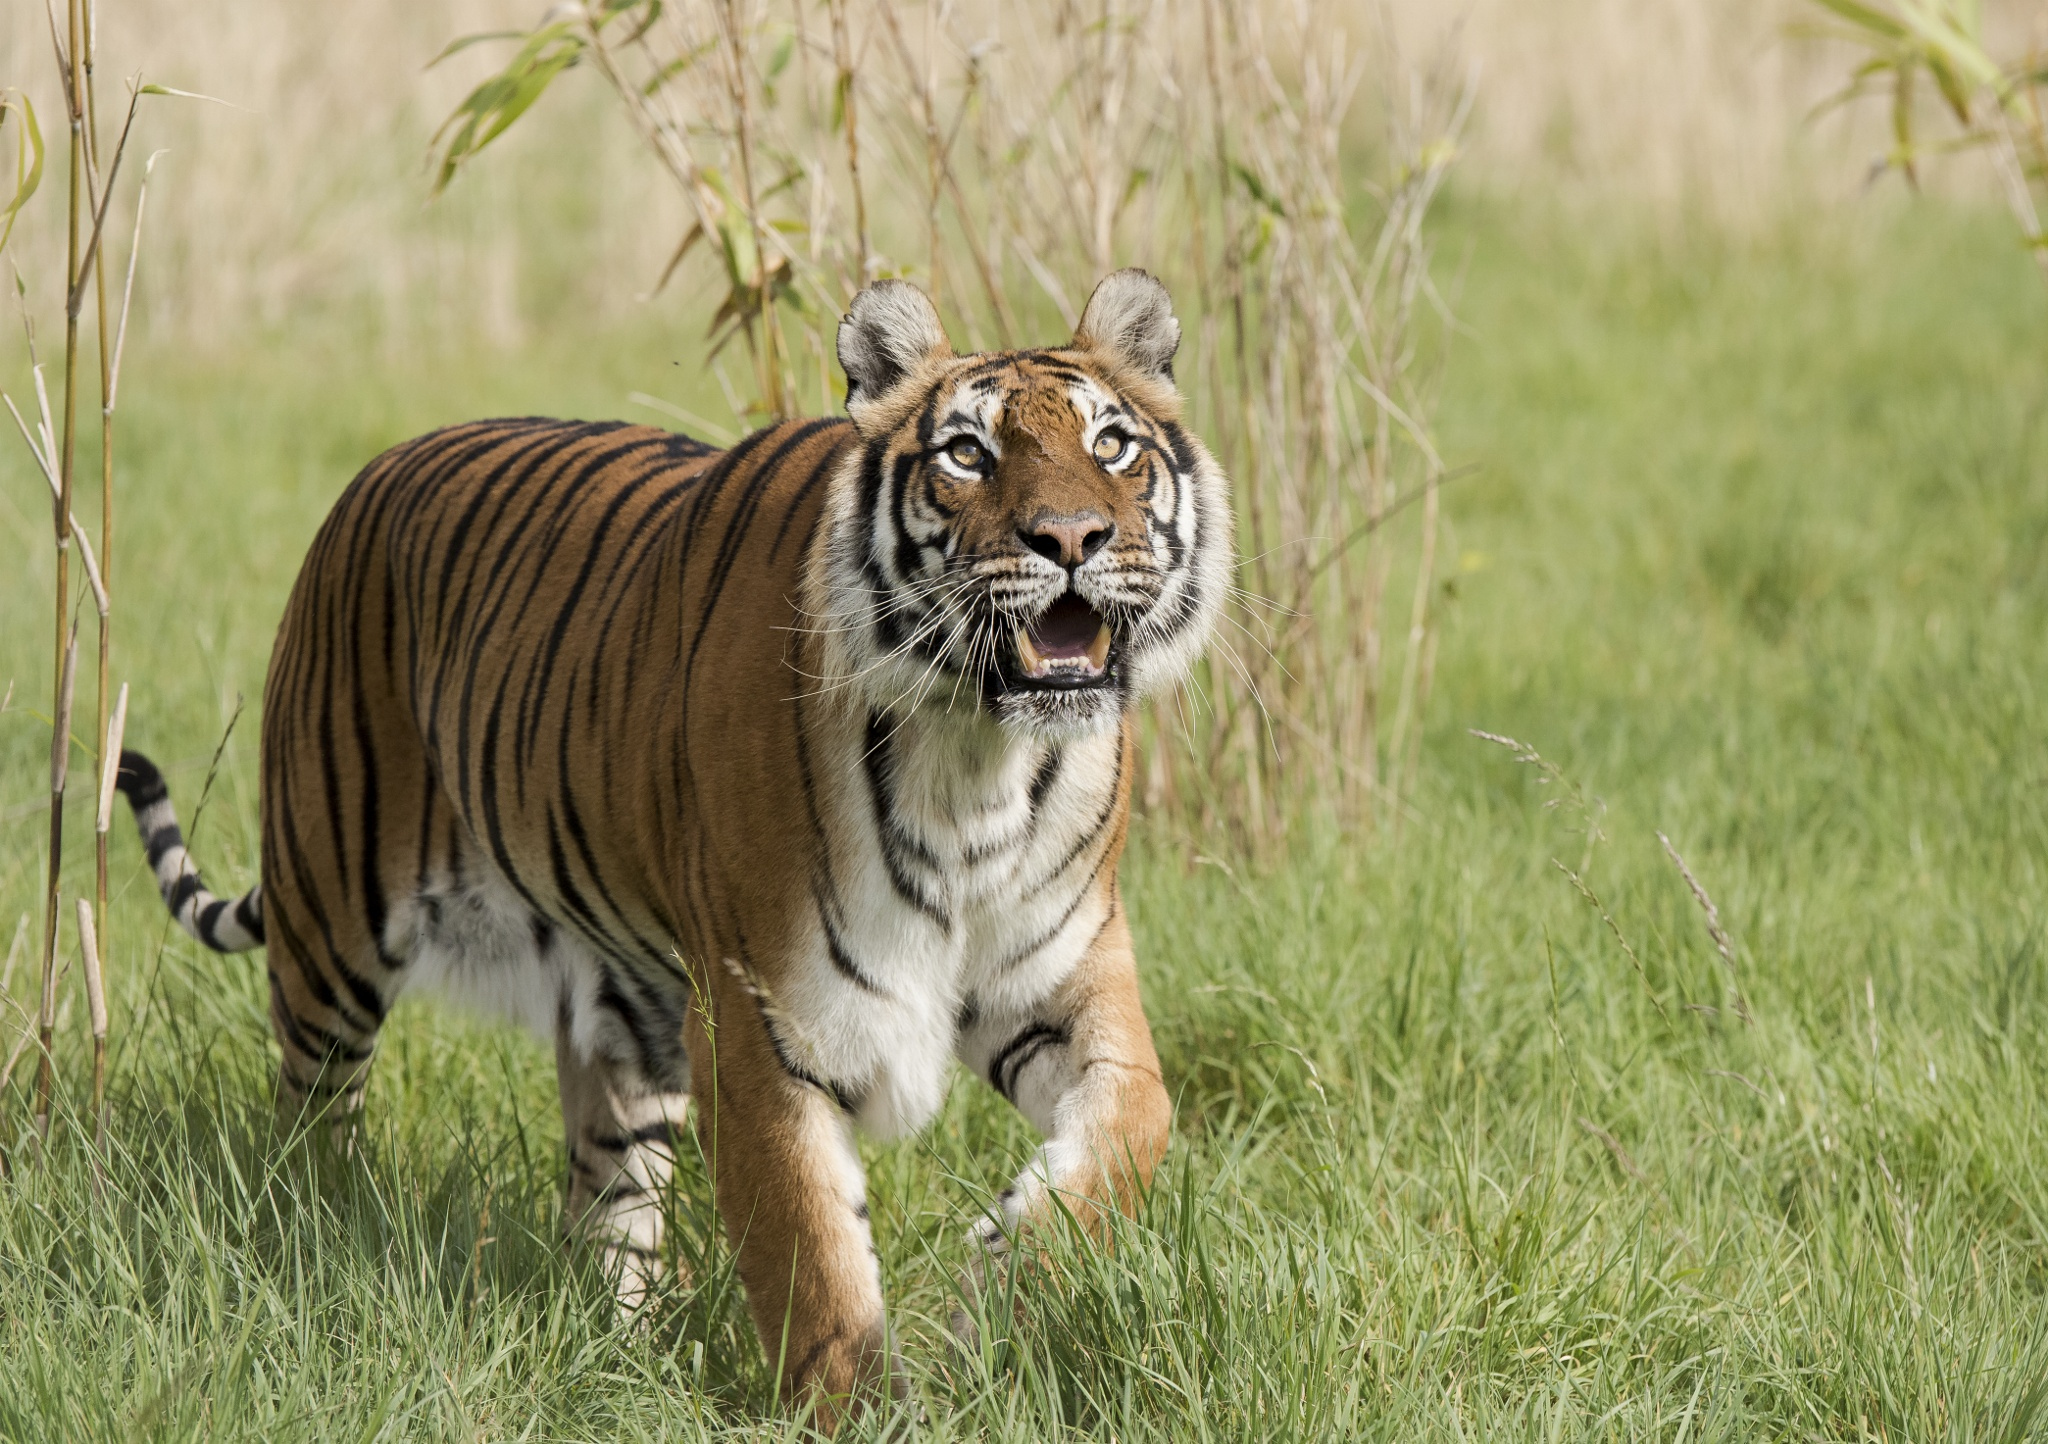tiger: (234, 300, 1247, 1319)
